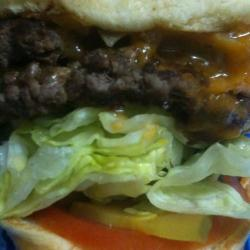burger: (3, 1, 245, 249)
